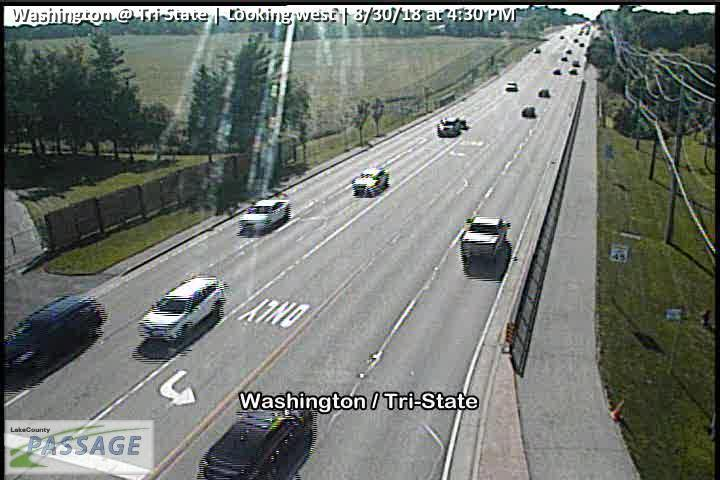SUV: (196, 395, 317, 480), (4, 293, 108, 390), (136, 274, 229, 345), (436, 116, 458, 137)
Sedan: (239, 199, 292, 234), (351, 167, 391, 197), (521, 105, 536, 119), (537, 88, 550, 98), (505, 82, 518, 91)
Truck: (459, 214, 512, 265)
